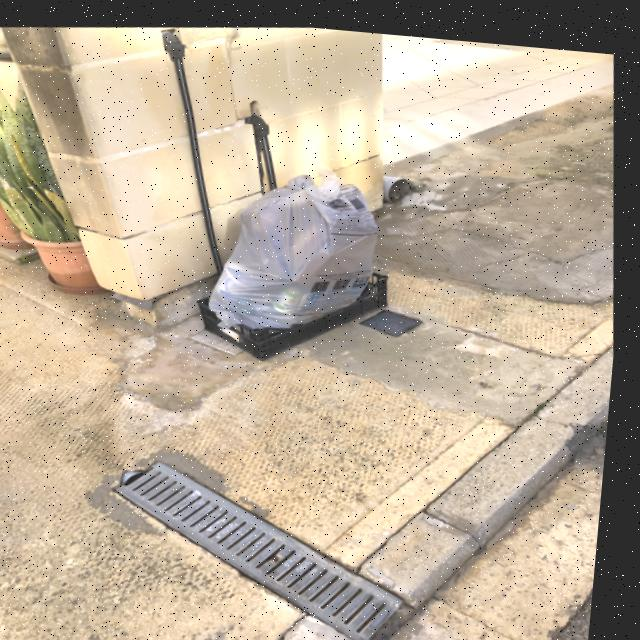Other: (194, 252, 404, 372)
Recycled Waste -Grey or Green Bag-: (198, 139, 402, 342)
